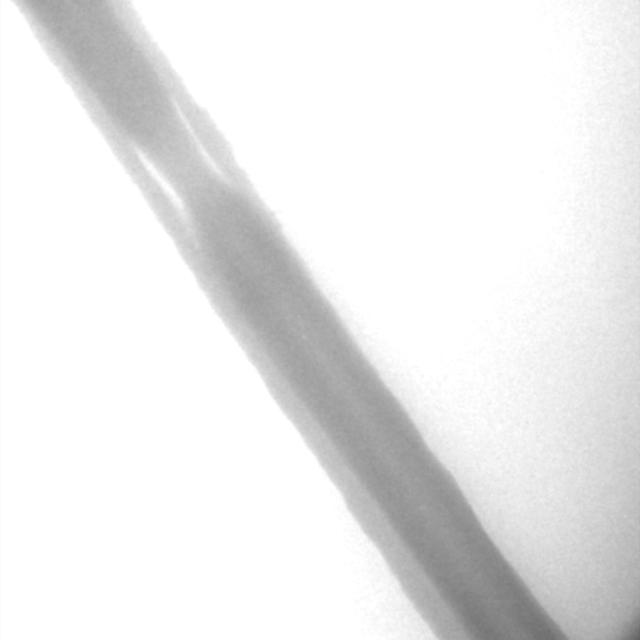unfused: (172, 76, 260, 194), (115, 122, 118, 125)
